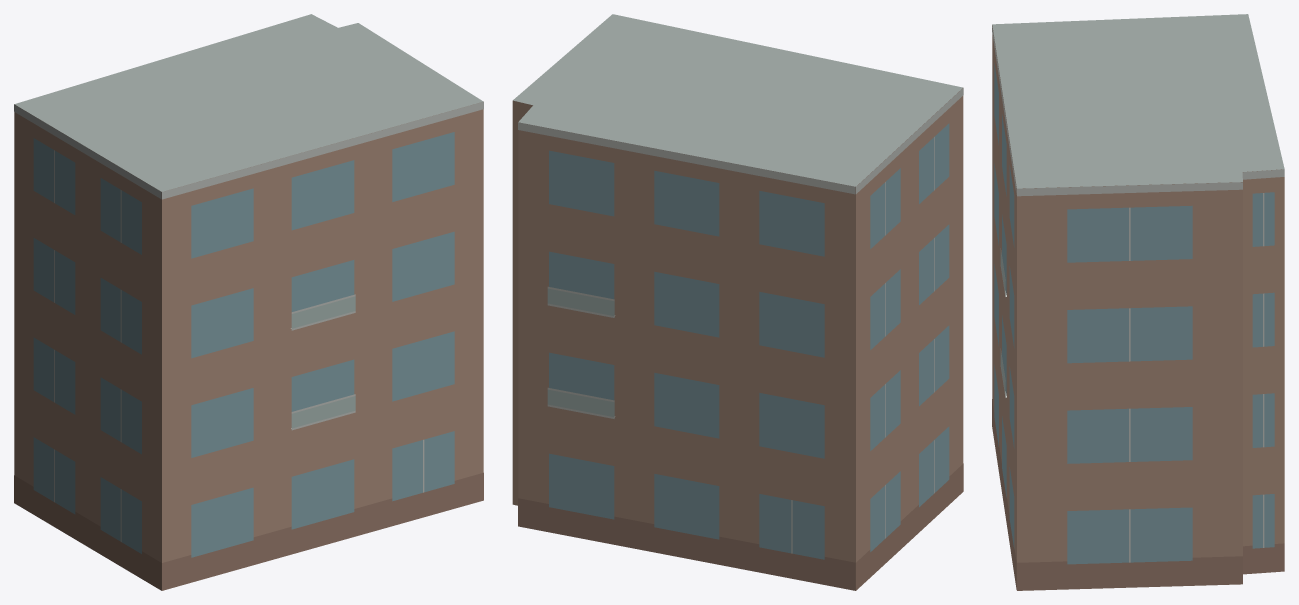
Rendered from survey-upis-32610213.glb.
3 views of the same model, side by side, from view 1: azimuth 30°, elevation 25°; view 2: azimuth 150°, elevation 25°; view 3: azimuth 270°, elevation 25° (orthographic).
Visible parts, largest first — view 1: survey-upis-32610213.tmp; view 2: survey-upis-32610213.tmp; view 3: survey-upis-32610213.tmp.
Part boxes in pixels (x1,y1,x2,y2): survey-upis-32610213.tmp: (14,14,483,590); survey-upis-32610213.tmp: (512,14,963,590); survey-upis-32610213.tmp: (992,14,1284,590).
Bounding box in the file's own units: 11.93 × 12.8 × 8.44.
